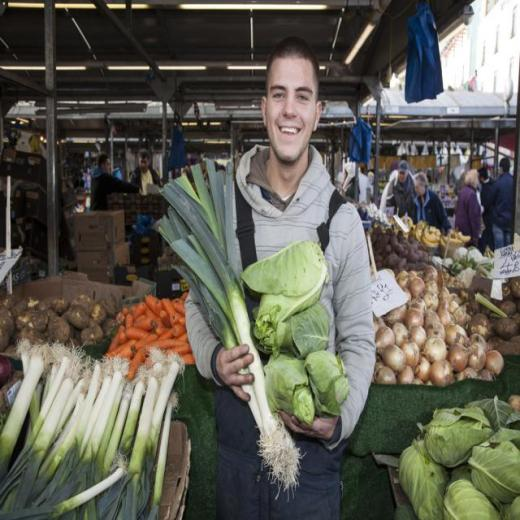Banana: (390, 216, 470, 258), (483, 244, 494, 259), (459, 231, 471, 242)
